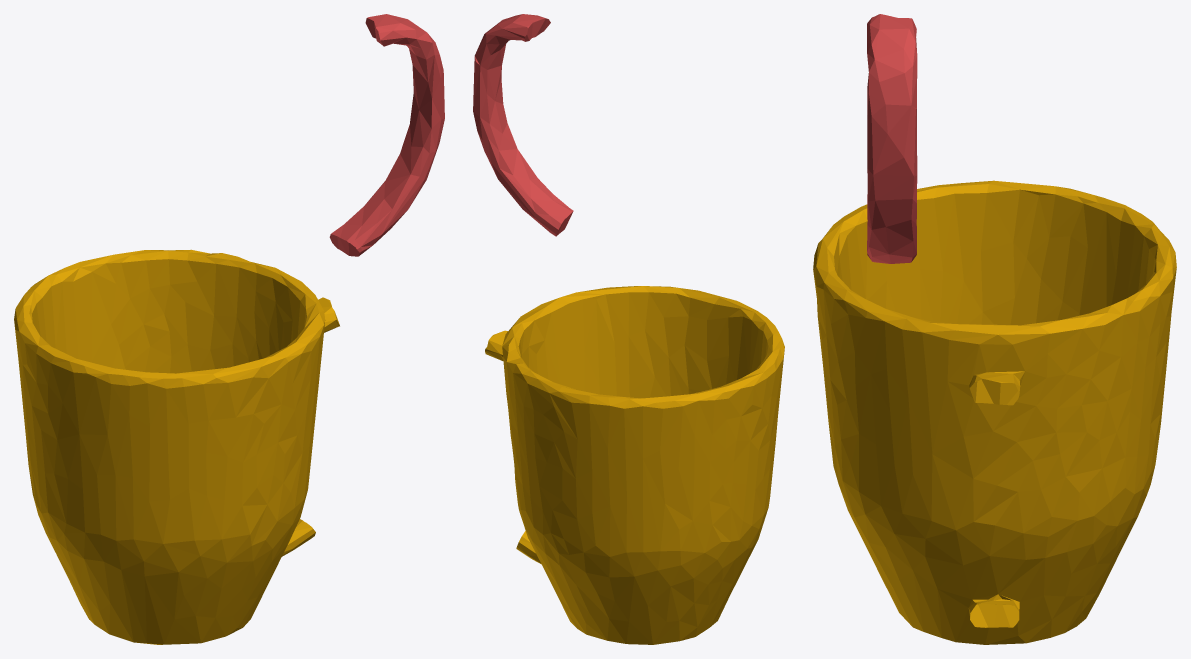
File: fractured_14_2pcs_transformed.glb
3 renders of one model, left to right at view 1: azimuth 30°, elevation 25°; view 2: azimuth 150°, elevation 25°; view 3: azimuth 270°, elevation 25°, orthographic. The views are drawn at different scales.
Parts seen in each view (by area): view 1: piece_0.obj, piece_1.obj; view 2: piece_0.obj, piece_1.obj; view 3: piece_0.obj, piece_1.obj.
Part boxes in pixels (x1,y1,x2,y2): piece_0.obj: [14, 249, 339, 644]; piece_1.obj: [329, 14, 444, 256]; piece_0.obj: [485, 286, 784, 644]; piece_1.obj: [473, 14, 573, 236]; piece_0.obj: [813, 180, 1176, 644]; piece_1.obj: [867, 14, 917, 263].
Bounding box in the file's own units: 1 × 1.55 × 0.7465.
